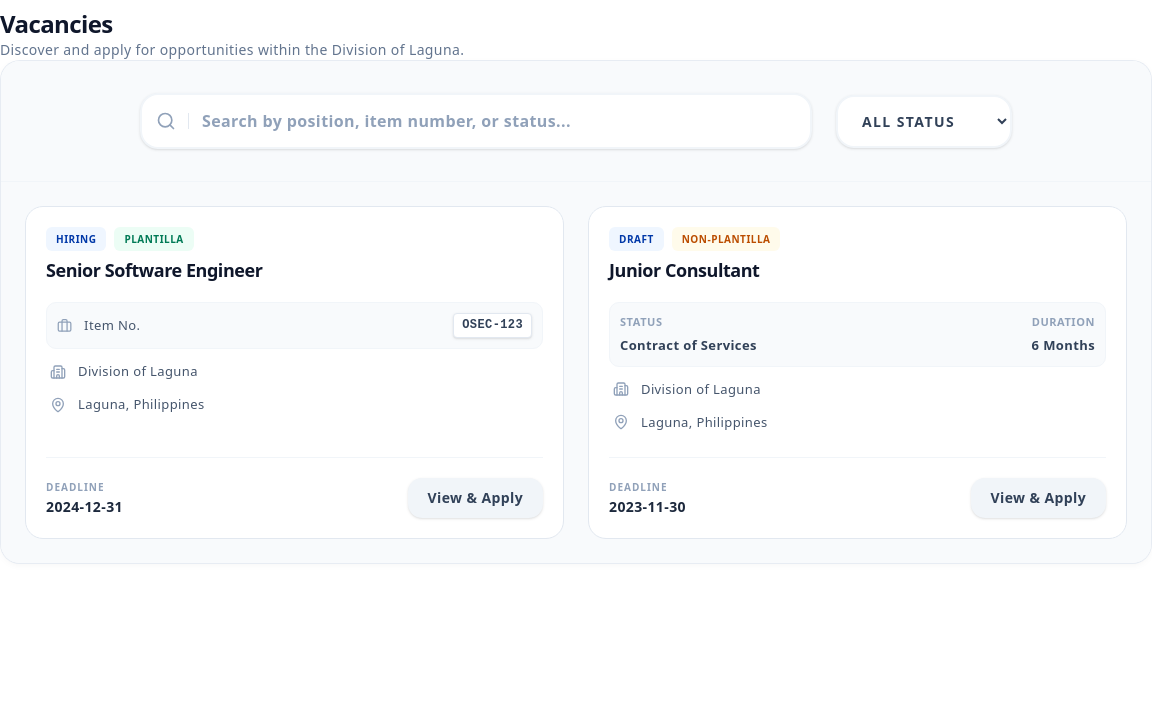
Vacancies Integration › opens details modal when clicking on a vacancy
Expected: the text "Senior Software Engineer" is shown, [46,258,262,282]
Click the text "Senior Software Engineer": click(294, 372) [25,206,564,539]
(page scrolled)
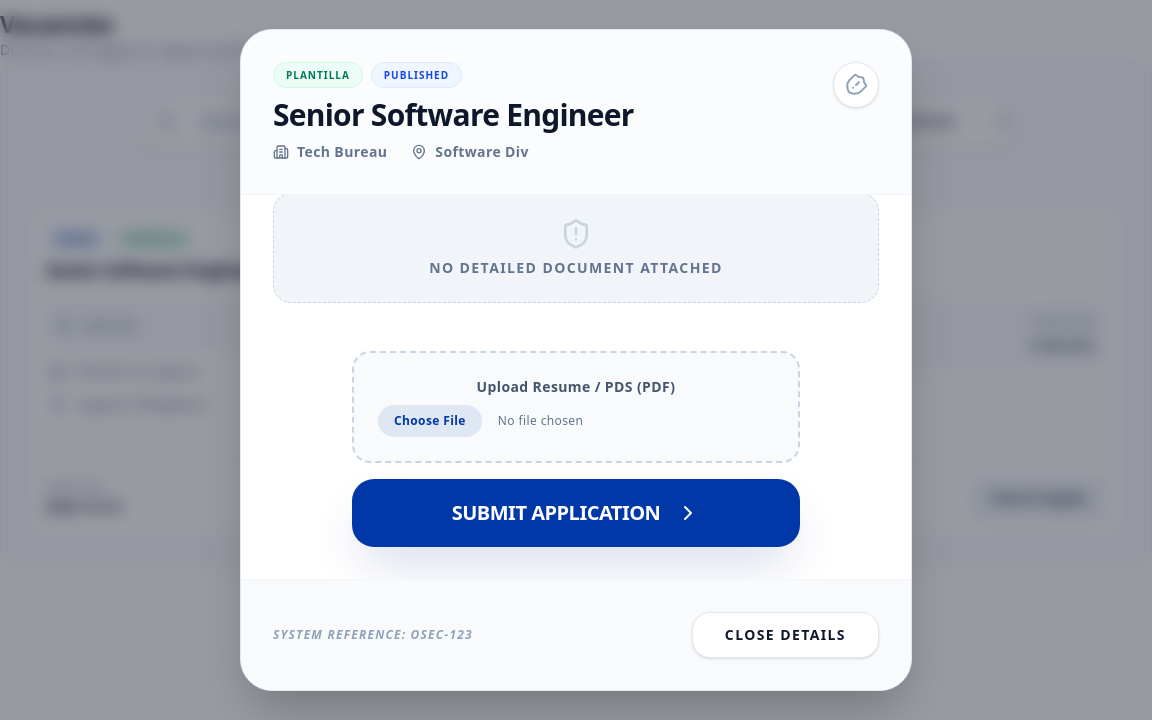
Expected: the text "System Reference: OSEC-123" is shown, [273,627,473,643]
Expected: the button "SUBMIT APPLICATION" is shown, [352,479,800,547]
